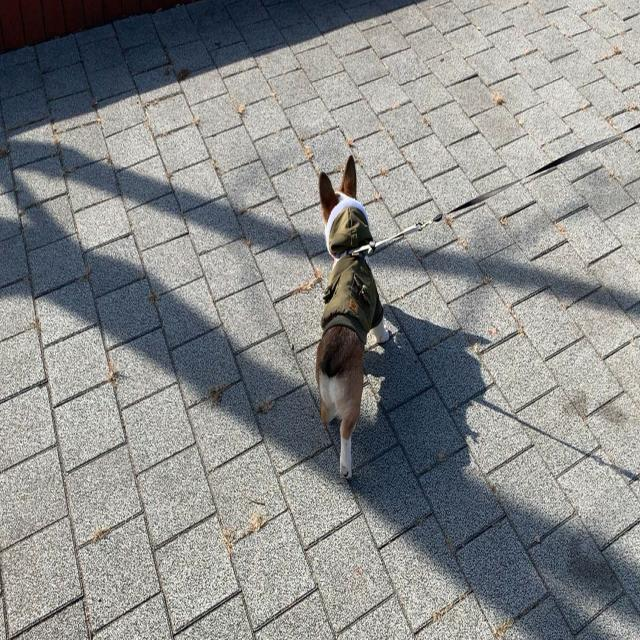Dog: (311, 152, 391, 482)
